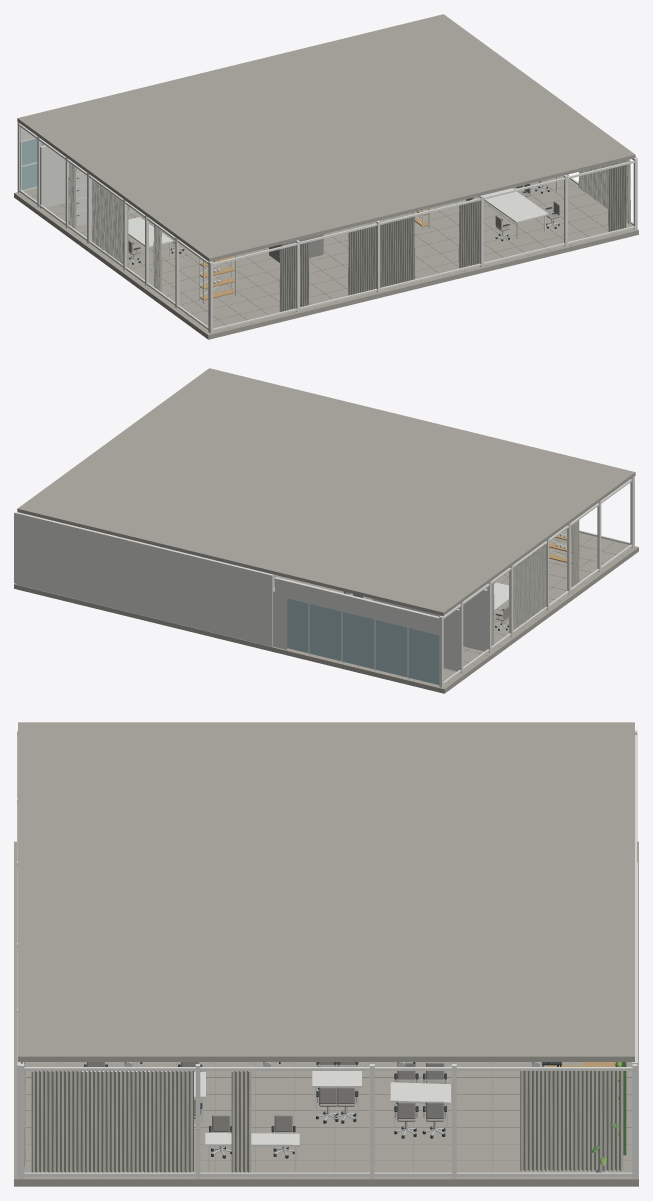
File: room.glb
3 views of the same model, one above another, from view 1: azimuth 30°, elevation 25°; view 2: azimuth 150°, elevation 25°; view 3: azimuth 270°, elevation 25° (orthographic). The views are drawn at different scales.
Parts seen in each view (by area): view 1: roof-16, architecture-01, windows-03, partitions-15, curtains-10, curtains-04, curtains-11, curtains-13, curtains-09, tables-18, curtains-12, tables-17 (+2 smaller); view 2: roof-16, architecture-02, partitions-15, architecture-01, windows-03, curtains-04, kitchen-24, curtains-05; view 3: roof-16, architecture-01, curtains-09, curtains-07, windows-03, curtains-08, tables-20, tables-21, tables-19, architecture-02.
Part boxes in pixels (x1,y1,x2,y2): roof-16: (17,14,635,261); architecture-01: (14,176,638,339); windows-03: (17,122,637,333); partitions-15: (20,127,429,303); curtains-10: (348,216,414,295); curtains-04: (91,180,128,267); curtains-11: (279,242,309,311); curtains-13: (458,200,479,268); curtains-09: (578,159,630,224); tables-18: (479,188,548,238); curtains-12: (608,165,626,231); tables-17: (128,217,173,256); roof-16: (17,368,635,615); architecture-02: (16,512,273,646); partitions-15: (274,533,571,684); architecture-01: (14,529,638,693); windows-03: (14,476,634,687); curtains-04: (513,545,545,630); kitchen-24: (273,587,288,649); curtains-05: (571,520,579,586); roof-16: (18,722,634,1061); architecture-01: (14,841,638,1186); curtains-09: (31,1071,193,1172); curtains-07: (520,1071,623,1171); windows-03: (17,730,637,1178); curtains-08: (231,1071,251,1172); tables-20: (390,1082,450,1126); tables-21: (205,1133,299,1170); tables-19: (312,1071,361,1111); architecture-02: (632,862,637,1177).
Bounding box in the file's own units: 20.22 × 3.58 × 15.8.
